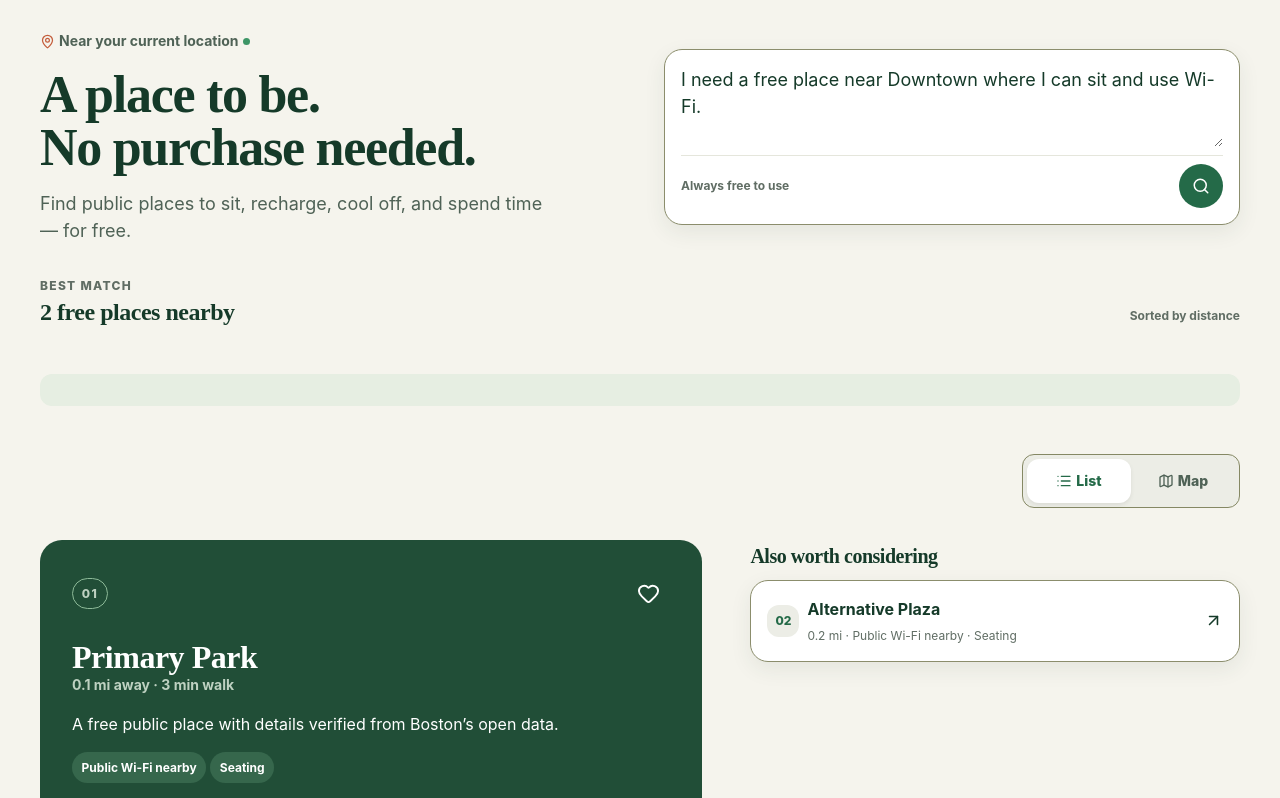
Test: Home result views and directions › switches the current results between list and map modes
The image size is (1280, 798).
Check: the panel named "List" shows "Primary Park", box [72, 638, 257, 674]
Click the tab "Map" at (1183, 480), box [1131, 458, 1235, 502]
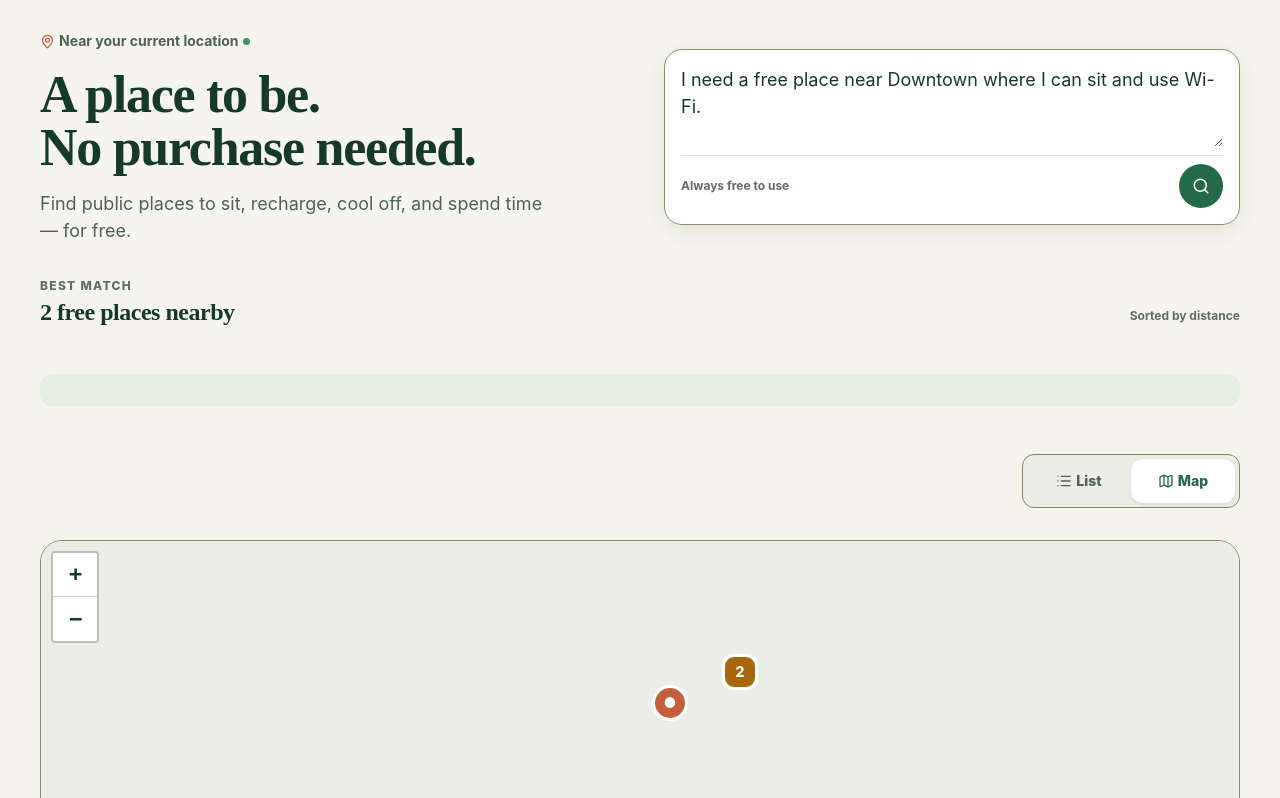
Check: the button titled "Alternative 2: Alternative Plaza" is shown, box [722, 654, 758, 690]
Check: the tab "Map" is selected, box [1131, 458, 1235, 502]
Click the tab "List" at (1079, 480), box [1027, 458, 1131, 502]
(page scrolled)
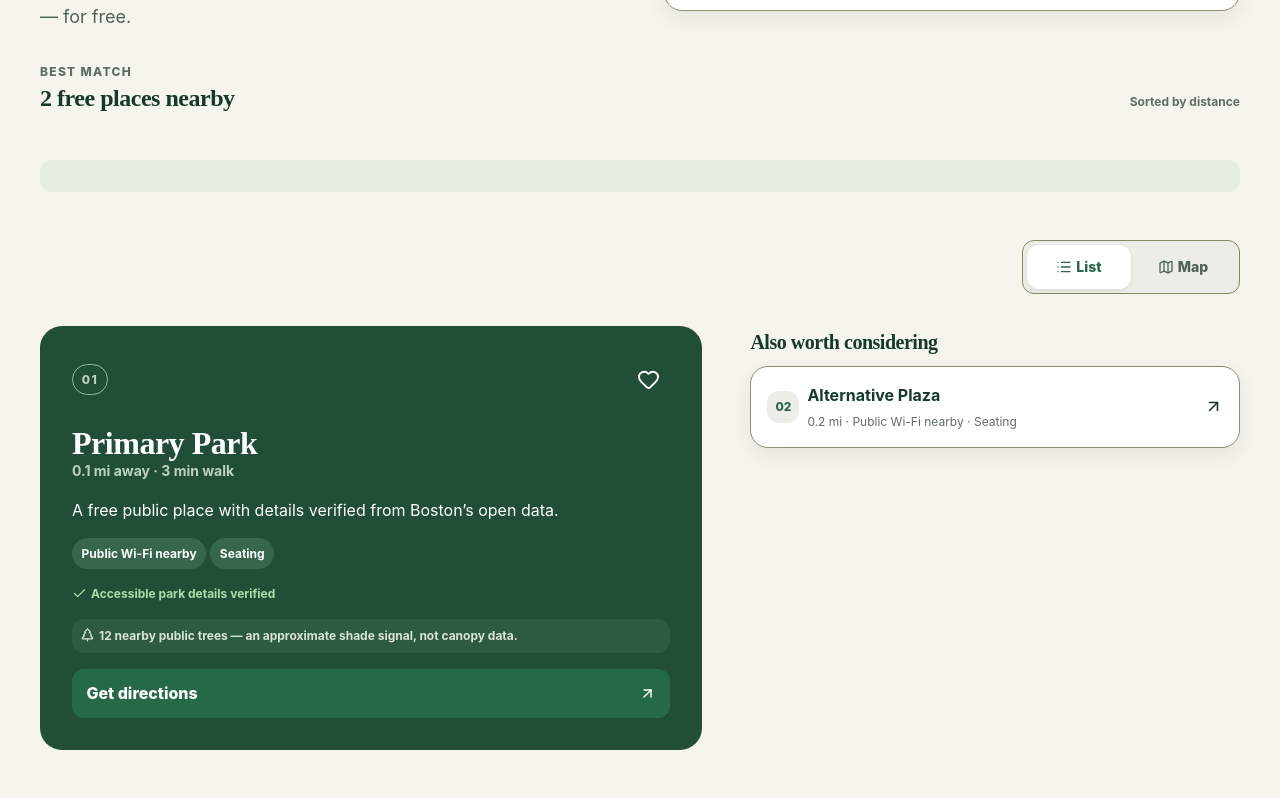
Check: the panel named "List" is shown, box [40, 326, 1240, 750]
